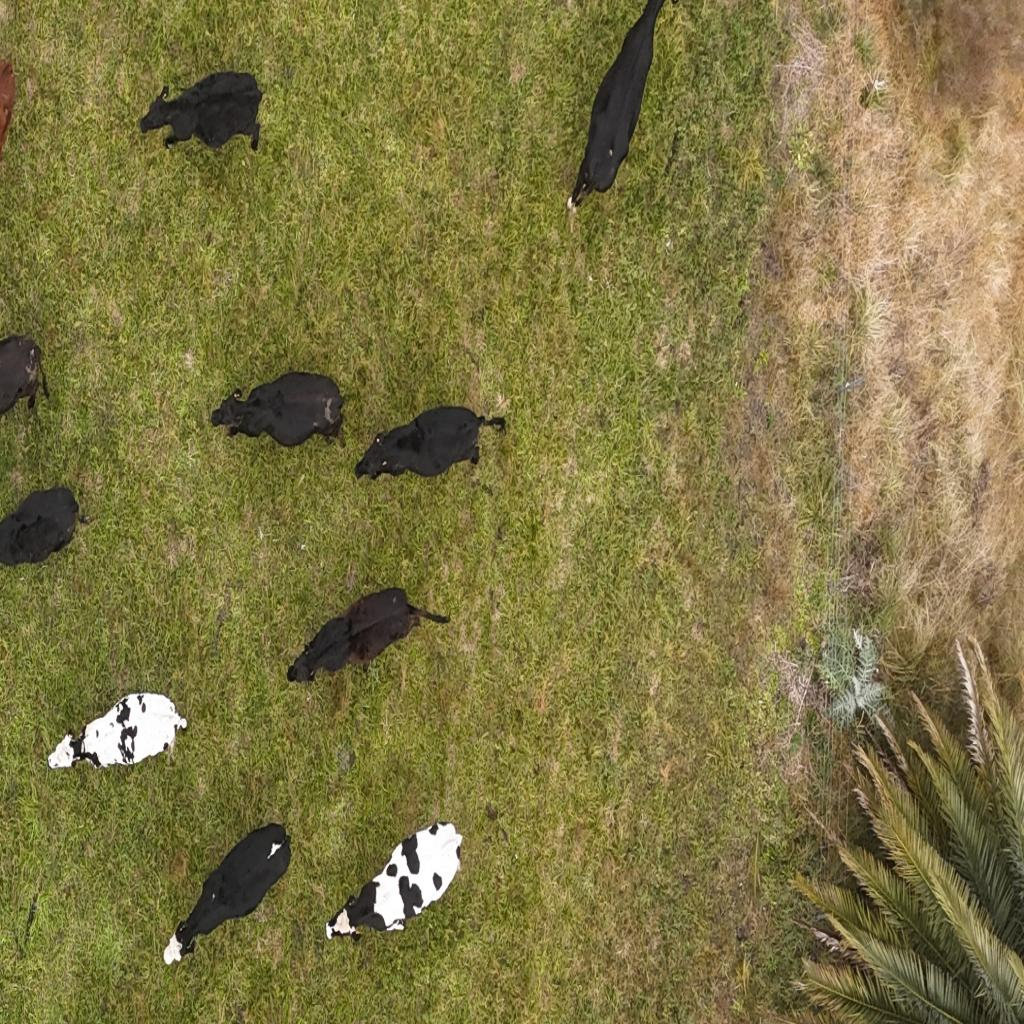cow: (568, 0, 669, 222), (166, 822, 292, 966), (327, 817, 464, 939), (287, 586, 451, 686), (137, 65, 265, 162), (355, 404, 507, 482), (50, 690, 188, 772), (212, 372, 346, 450), (0, 485, 90, 568), (0, 328, 51, 425)
